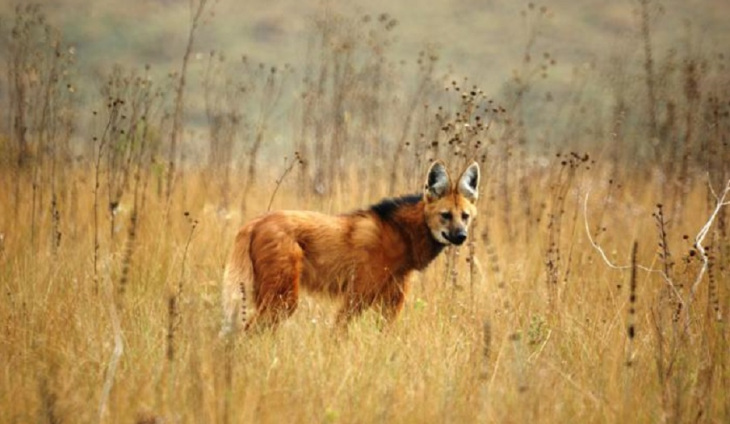LoboGuara: (225, 159, 493, 338)
